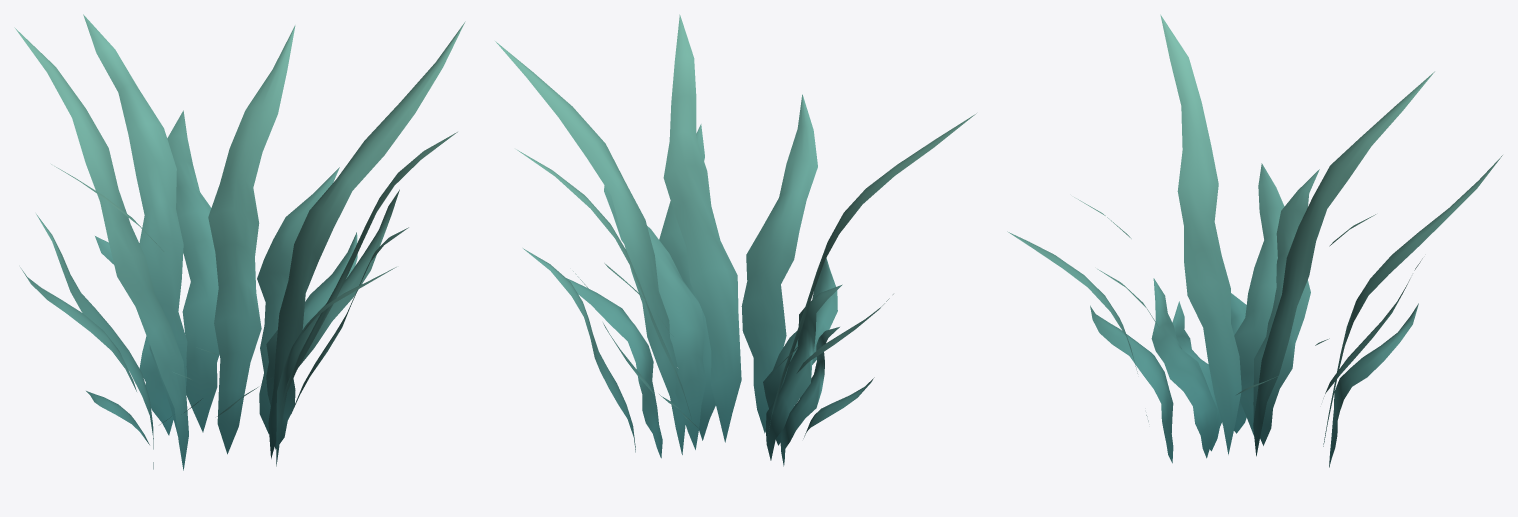
Rendered from sea_grass.glb.
3 renders of one model, left to right at view 1: azimuth 30°, elevation 25°; view 2: azimuth 150°, elevation 25°; view 3: azimuth 270°, elevation 25°, orthographic. The views are drawn at different scales.
Visible parts, largest first — view 1: world; view 2: world; view 3: world.
Boxes of the visible parts, left/top/right/bottom form: world: left=14, top=14, right=465, bottom=470; world: left=495, top=14, right=976, bottom=466; world: left=1007, top=14, right=1502, bottom=467.
Size of the model in its own units: 1.19 by 0.971 by 1.22.
